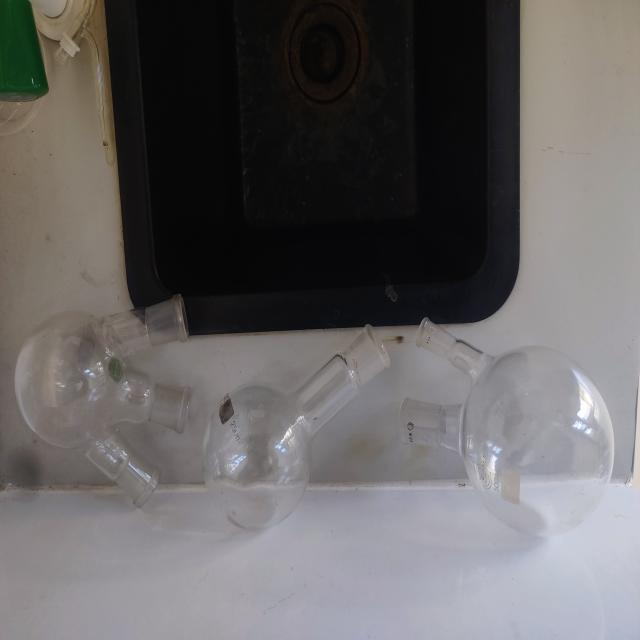Round_Bottom_Flask_Borosilicate_Glass_1_Neck: (204, 301, 398, 565)
Round_Bottom_Flask_Borosilicate_Glass_2_Neck: (388, 269, 629, 582)
Round_Bottom_Flask_Borosilicate_Glass_3_Neck: (3, 274, 224, 544)
